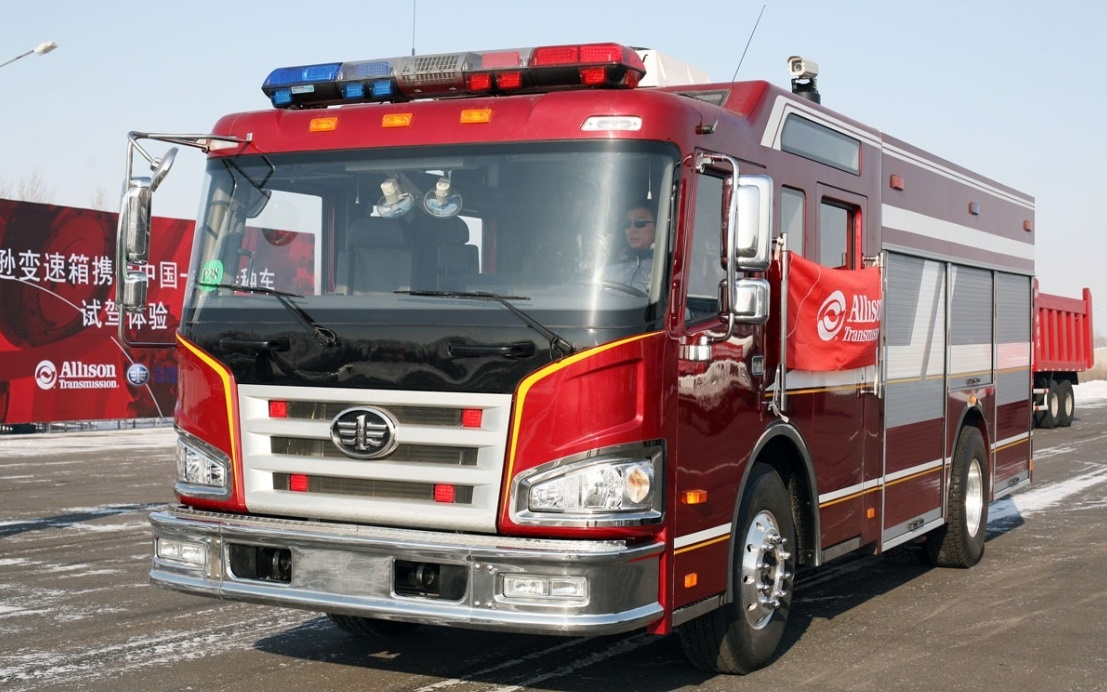fire engine: (102, 38, 1055, 659)
